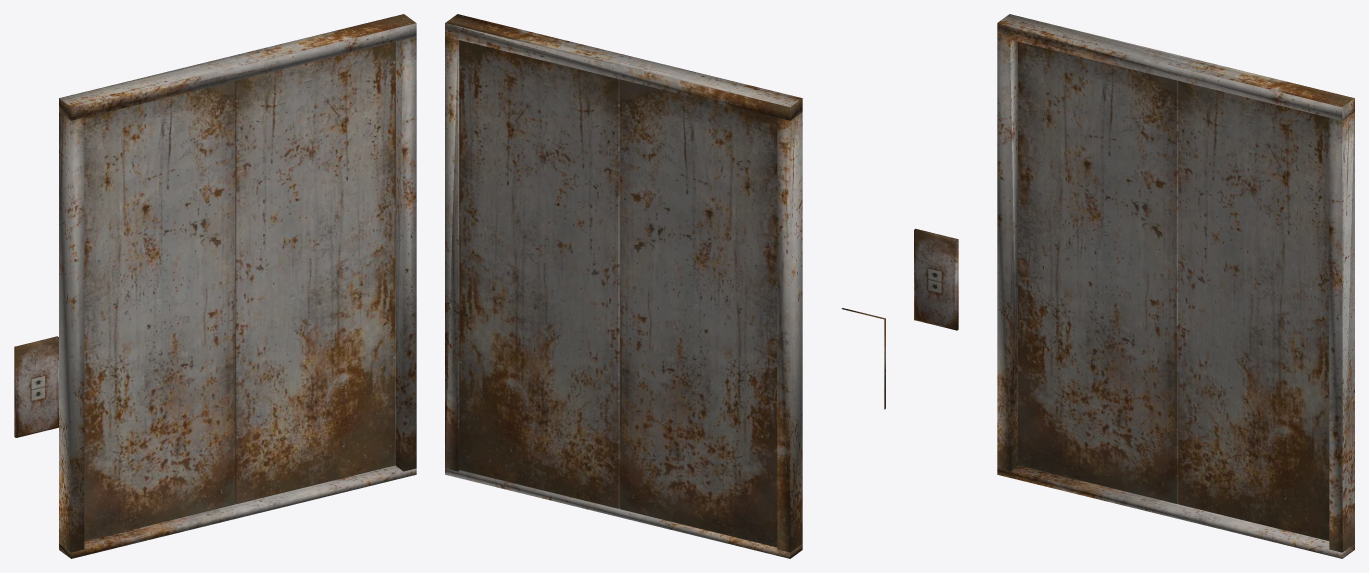
File: door.hinged.elevator_door_dilapidated.glb
The picture shows the model from 3 angles, left to right: view 1: azimuth 30°, elevation 25°; view 2: azimuth 150°, elevation 25°; view 3: azimuth 330°, elevation 25°; orthographic projection.
Parts seen in each view (by area): view 1: elevator_door_office_LOD0; view 2: elevator_door_office_LOD0; view 3: elevator_door_office_LOD0.
Part boxes in pixels (x1,y1,x2,y2): elevator_door_office_LOD0: (14,14,416,558); elevator_door_office_LOD0: (445,14,885,558); elevator_door_office_LOD0: (914,14,1354,558).
Bounding box in the file's own units: 2.4 × 2.5 × 0.2721.
1 material, 1 textured.
